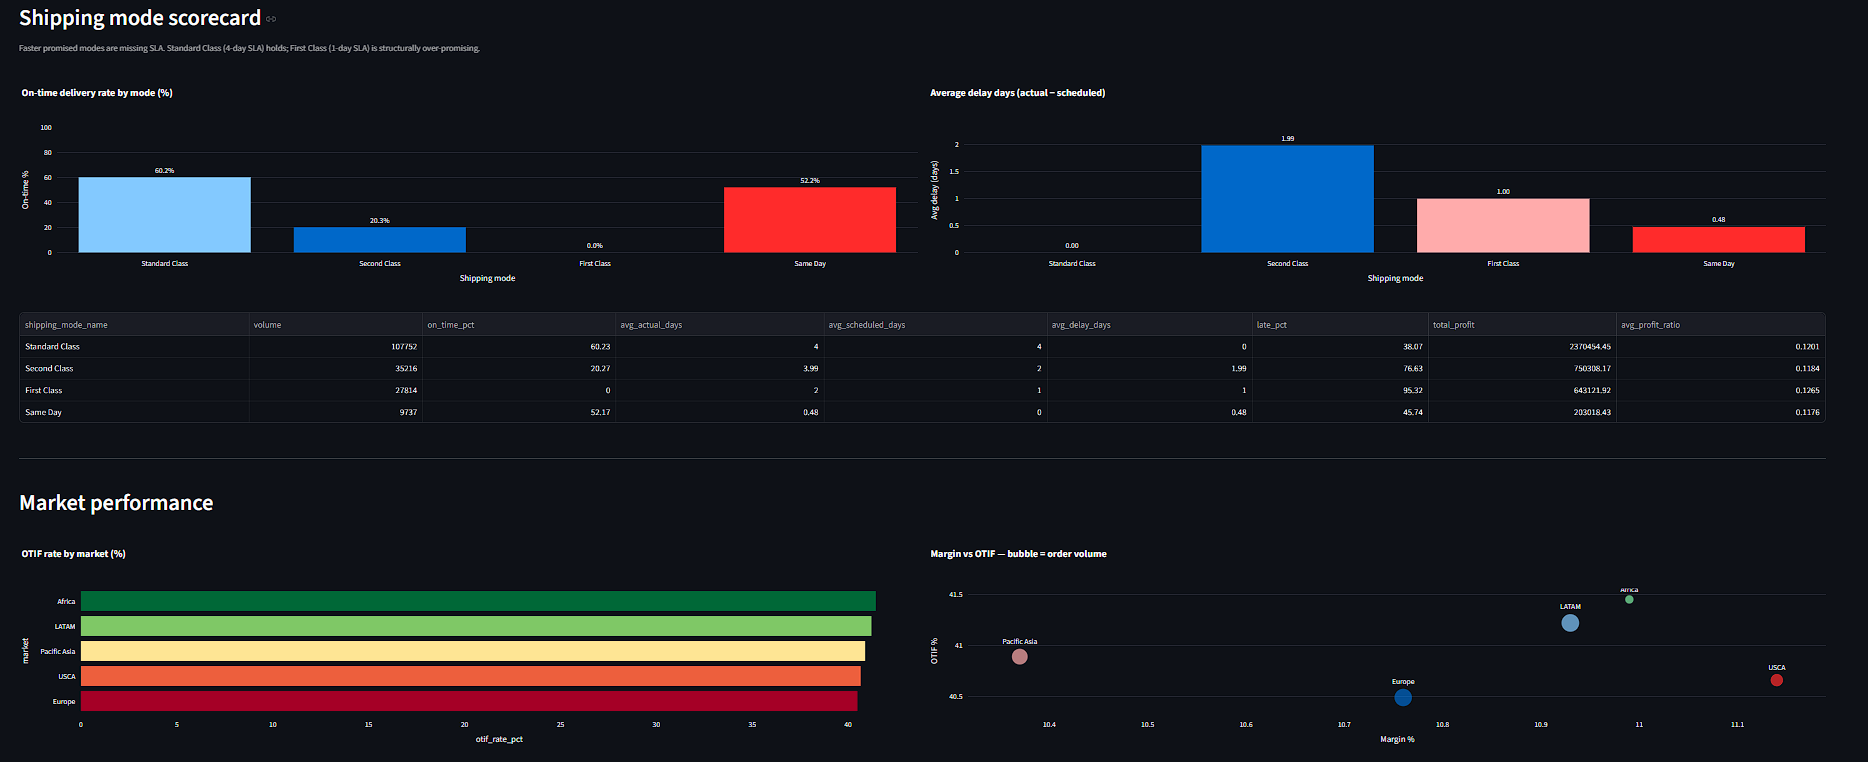

The dashboard page shown, as its layout file describes it:
{"tool":"powerbi","page":{"name":"Mode & Market","canvas":[1280,720],"ordinal":1},"visuals":[{"type":"clusteredColumnChart","title":"On-time rate by shipping mode","fields":{"Category":["supply_chain vw_shipping_mode_scorecard.shipping_mode_name"],"Y":["Sum(supply_chain vw_shipping_mode_scorecard.on_time_pct)"]},"box":[16,80,592,320],"z":0},{"type":"clusteredColumnChart","title":"Average Delay Days by Mode (Actual − Scheduled)","fields":{"Category":["supply_chain vw_shipping_mode_scorecard.shipping_mode_name"],"Y":["Sum(supply_chain vw_shipping_mode_scorecard.avg_delay_days)"]},"box":[688,80,576,320],"z":1000},{"type":"clusteredBarChart","title":"OTIF Rate by Market (%)","fields":{"Category":["supply_chain vw_market_performance.market"],"Y":["Sum(supply_chain vw_market_performance.otif_rate_pct)"]},"box":[16,416,592,304],"z":2000},{"type":"tableEx","title":"Shipping Mode Scorecard","fields":{"Values":["supply_chain vw_shipping_mode_scorecard.shipping_mode_name","Sum(supply_chain vw_shipping_mode_scorecard.volume)","Sum(supply_chain vw_shipping_mode_scorecard.on_time_pct)","Sum(supply_chain vw_shipping_mode_scorecard.avg_delay_days)","Sum(supply_chain vw_shipping_mode_scorecard.late_pct)","Sum(supply_chain vw_shipping_mode_scorecard.total_profit)"]},"box":[688,416,576,304],"z":3000},{"type":"textbox","box":[16,0,1248,64],"z":4000}]}

Visuals, with their boxes on the page's 1280x720 design canvas (x1, y1, x2, y2). These are canvas units, not pixel positions in the 1868x762 screenshot, which may show the page scaled, cropped or inside an application window:
"On-time rate by shipping mode" clusteredColumnChart: l=16, t=80, r=608, b=400
"Average Delay Days by Mode (Actual − Scheduled)" clusteredColumnChart: l=688, t=80, r=1264, b=400
"OTIF Rate by Market (%)" clusteredBarChart: l=16, t=416, r=608, b=720
"Shipping Mode Scorecard" tableEx: l=688, t=416, r=1264, b=720
textbox: l=16, t=0, r=1264, b=64
